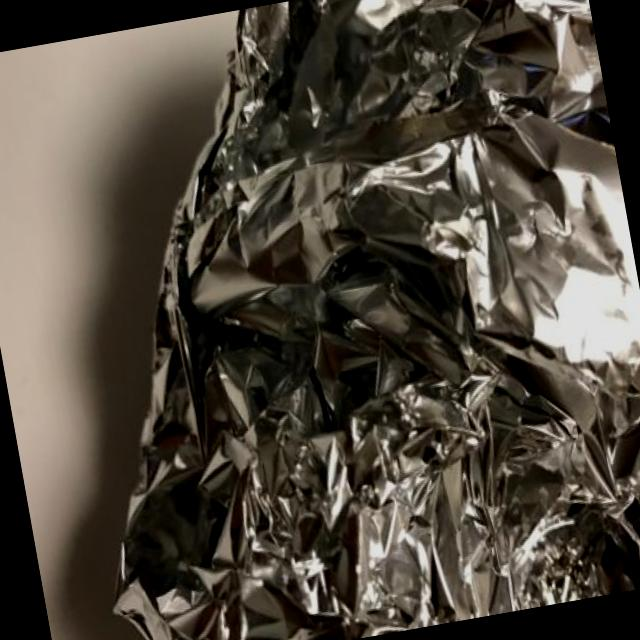kim_loai: (115, 0, 640, 640)
